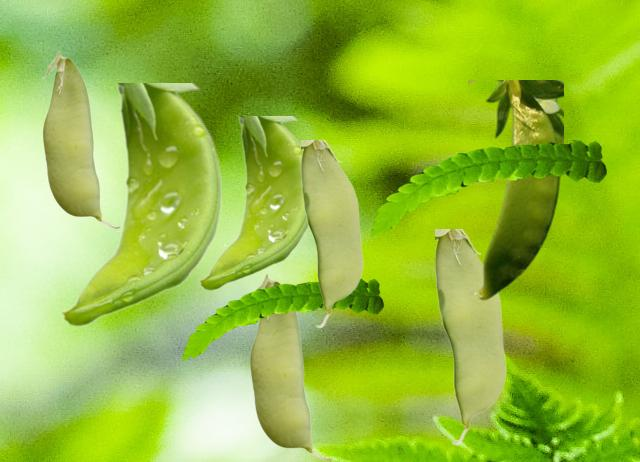pea: (59, 83, 220, 325), (468, 80, 562, 299), (197, 116, 308, 289), (249, 273, 332, 460), (435, 229, 505, 444), (41, 50, 120, 228), (301, 140, 362, 327)
